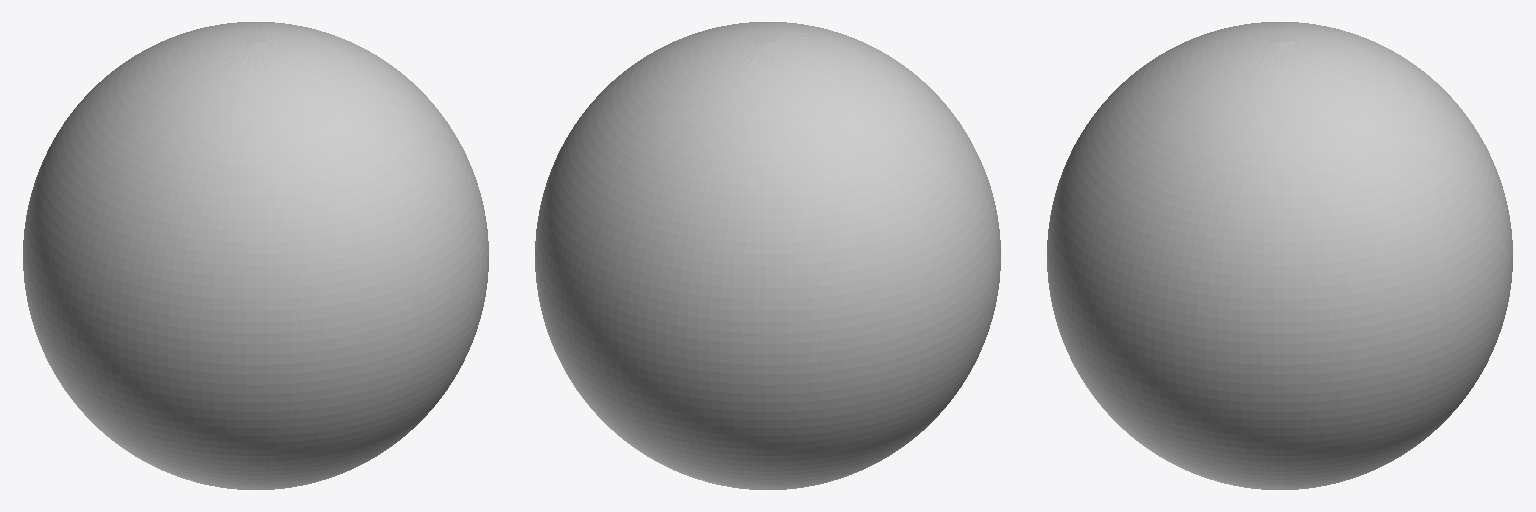
File: 004-planet.obj
3 views of the same model, side by side, from view 1: azimuth 30°, elevation 25°; view 2: azimuth 150°, elevation 25°; view 3: azimuth 270°, elevation 25° (orthographic).
Parts seen in each view (by area): view 1: 球体.001; view 2: 球体.001; view 3: 球体.001.
Boxes of the visible parts, x1=… form: 球体.001: x1=23, y1=22, x2=488, y2=489; 球体.001: x1=535, y1=22, x2=1000, y2=489; 球体.001: x1=1047, y1=22, x2=1512, y2=489.
Bounding box in the file's own units: 15.81 × 15.98 × 15.81.